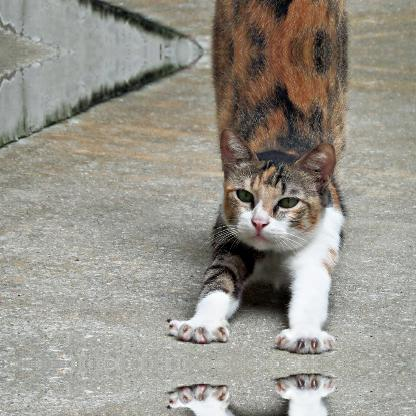Cat: (168, 52, 348, 354)
